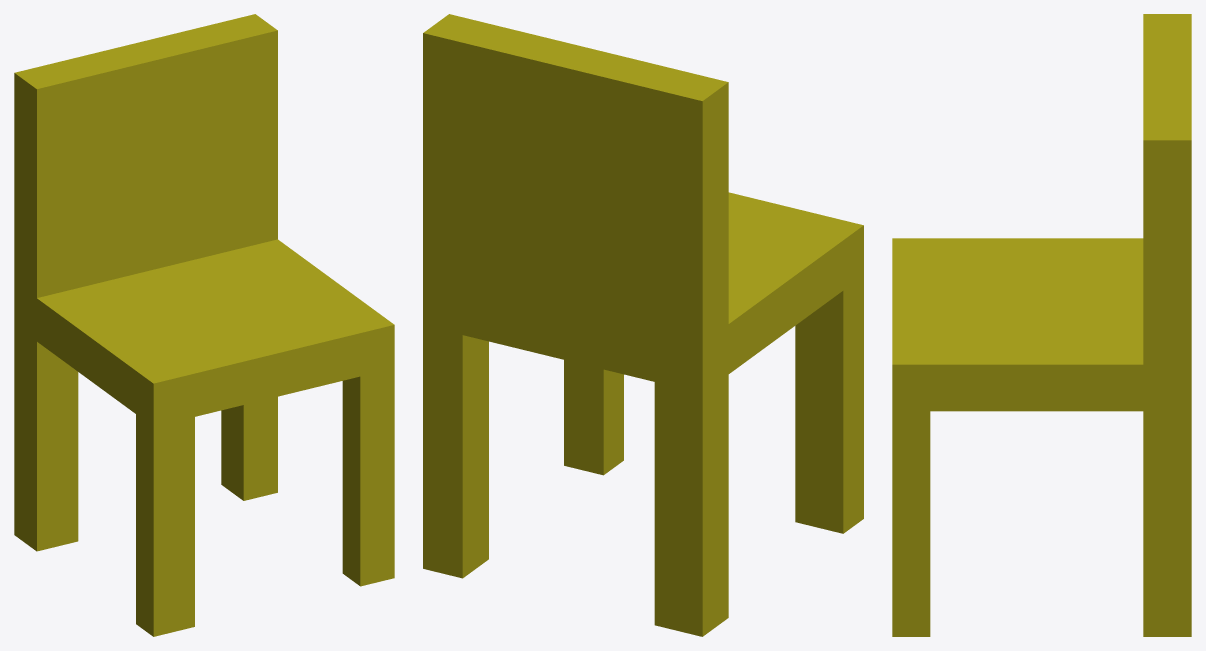
File: Silla.fbx
3 renders of one model, left to right at view 1: azimuth 30°, elevation 25°; view 2: azimuth 150°, elevation 25°; view 3: azimuth 270°, elevation 25°, orthographic. The views are drawn at different scales.
Visible parts, largest first — view 1: Cube.006; view 2: Cube.006; view 3: Cube.006.
Part boxes in pixels (x1,y1,x2,y2): Cube.006: (14,14,394,636); Cube.006: (423,14,863,636); Cube.006: (892,14,1191,636).
Bounding box in the file's own units: 25 × 45.81 × 25.
